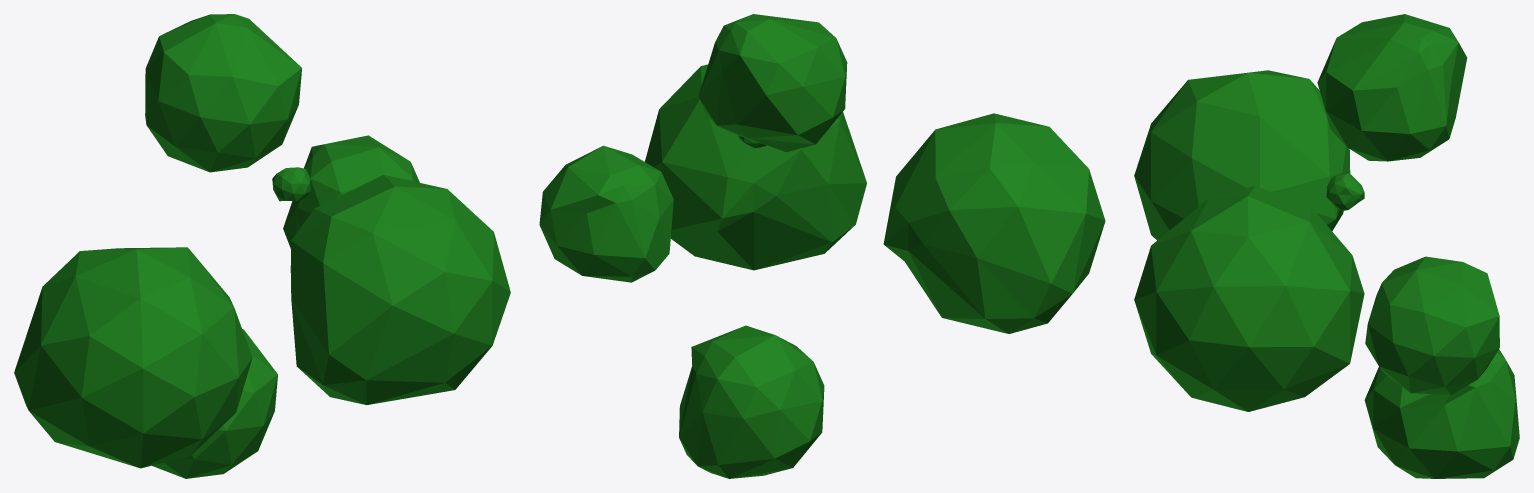
Rendered from leaves.obj.
3 views of the same model, side by side, from view 1: azimuth 30°, elevation 25°; view 2: azimuth 150°, elevation 25°; view 3: azimuth 270°, elevation 25° (orthographic). The views are drawn at different scales.
Parts seen in each view (by area): view 1: PinusBruitaLeave; view 2: PinusBruitaLeave; view 3: PinusBruitaLeave.
Part boxes in pixels (box(x1,y1,x2,y2)): PinusBruitaLeave: box(14, 14, 510, 478); PinusBruitaLeave: box(539, 14, 1105, 478); PinusBruitaLeave: box(1134, 14, 1519, 478).
Bounding box in the file's own units: 10.29 × 9.62 × 7.41.
